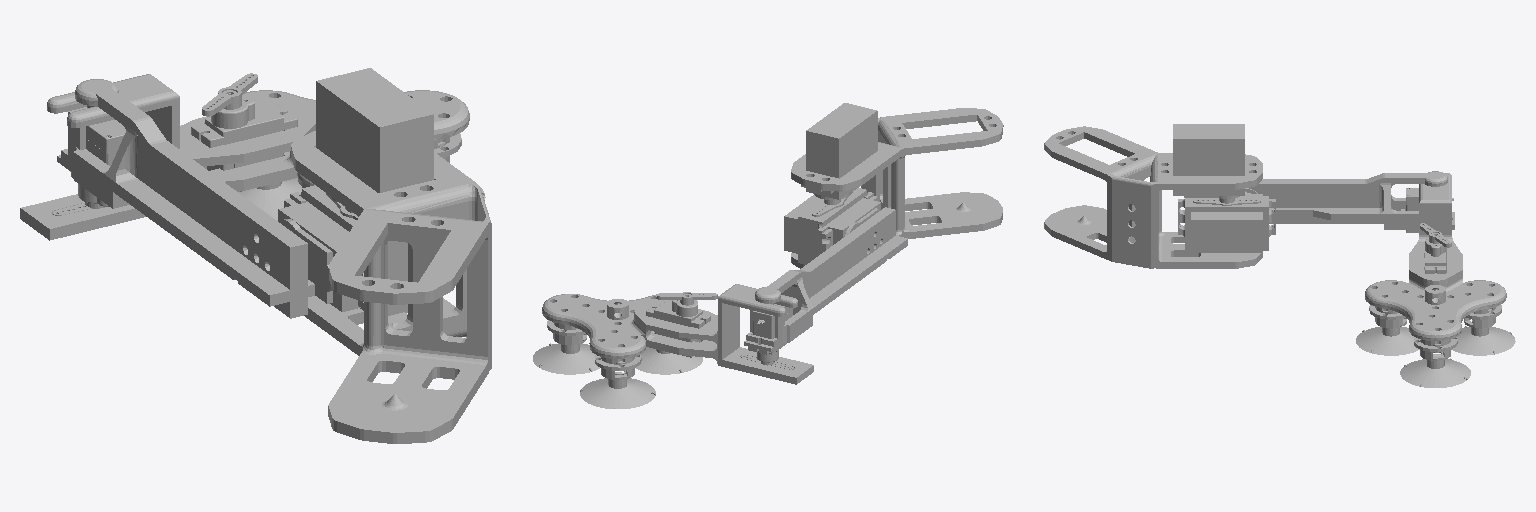
URDF robot description (leg_urdf):
<?xml version="1.0" encoding="utf-8"?>
<!-- This URDF was automatically created by SolidWorks to URDF Exporter! Originally created by [author] ([email redacted]) 
     Commit Version: 1.6.0-4-g7f85cfe  Build Version: 1.6.7995.38578
     For more information, please see http://wiki.ros.org/sw_urdf_exporter -->
<robot
  name="leg_urdf">
  <link
    name="base_link">
    <inertial>
      <origin
        xyz="-0.0054523 -0.031797 0.035247"
        rpy="0 0 0" />
      <mass
        value="0.087475" />
      <inertia
        ixx="8.6451E-05"
        ixy="-1.5882E-05"
        ixz="-1.2368E-06"
        iyy="5.1374E-05"
        iyz="5.876E-07"
        izz="7.5897E-05" />
    </inertial>
    <visual>
      <origin
        xyz="0 0 0"
        rpy="0 0 0" />
      <geometry>
        <mesh
          filename="package://leg_urdf/meshes/base_link.STL" />
      </geometry>
      <material
        name="">
        <color
          rgba="0.75294 0.75294 0.75294 1" />
      </material>
    </visual>
    <collision>
      <origin
        xyz="0 0 0"
        rpy="0 0 0" />
      <geometry>
        <mesh
          filename="package://leg_urdf/meshes/base_link.STL" />
      </geometry>
    </collision>
  </link>
  <link
    name="shoulder_link">
    <inertial>
      <origin
        xyz="-0.0012364 0.00012327 0.013522"
        rpy="0 0 0" />
      <mass
        value="0.040095" />
      <inertia
        ixx="9.0548E-06"
        ixy="7.5538E-08"
        ixz="6.0887E-09"
        iyy="5.6354E-06"
        iyz="-7.5826E-12"
        izz="1.0932E-05" />
    </inertial>
    <visual>
      <origin
        xyz="0 0 0"
        rpy="0 0 0" />
      <geometry>
        <mesh
          filename="package://leg_urdf/meshes/shoulder_link.STL" />
      </geometry>
      <material
        name="">
        <color
          rgba="0.75294 0.75294 0.75294 1" />
      </material>
    </visual>
    <collision>
      <origin
        xyz="0 0 0"
        rpy="0 0 0" />
      <geometry>
        <mesh
          filename="package://leg_urdf/meshes/shoulder_link.STL" />
      </geometry>
    </collision>
  </link>
  <joint
    name="front_back_joint"
    type="continuous">
    <origin
      xyz="0 0 0.0052"
      rpy="0 0 0" />
    <parent
      link="base_link" />
    <child
      link="shoulder_link" />
    <axis
      xyz="0 0 1" />
  </joint>
  <link
    name="tibia_link">
    <inertial>
      <origin
        xyz="-0.029077 0.0516 -0.0015978"
        rpy="0 0 0" />
      <mass
        value="0.043233" />
      <inertia
        ixx="5.4993E-05"
        ixy="-6.3736E-07"
        ixz="-5.8862E-08"
        iyy="3.0015E-06"
        iyz="-2.6775E-07"
        izz="5.3649E-05" />
    </inertial>
    <visual>
      <origin
        xyz="0 0 0"
        rpy="0 0 0" />
      <geometry>
        <mesh
          filename="package://leg_urdf/meshes/tibia_link.STL" />
      </geometry>
      <material
        name="">
        <color
          rgba="0.75294 0.75294 0.75294 1" />
      </material>
    </visual>
    <collision>
      <origin
        xyz="0 0 0"
        rpy="0 0 0" />
      <geometry>
        <mesh
          filename="package://leg_urdf/meshes/tibia_link.STL" />
      </geometry>
    </collision>
  </link>
  <joint
    name="up_down_joint"
    type="continuous">
    <origin
      xyz="0 0.010107 0.0135"
      rpy="0 0 0" />
    <parent
      link="shoulder_link" />
    <child
      link="tibia_link" />
    <axis
      xyz="-1 0 0" />
  </joint>
  <link
    name="gripper_link">
    <inertial>
      <origin
        xyz="0.06516 -1.1556E-05 -0.021052"
        rpy="0 0 0" />
      <mass
        value="0.069921" />
      <inertia
        ixx="1.9179E-05"
        ixy="-6.316E-08"
        ixz="8.6271E-06"
        iyy="8.0406E-05"
        iyz="-4.5135E-09"
        izz="8.8277E-05" />
    </inertial>
    <visual>
      <origin
        xyz="0 0 0"
        rpy="0 0 0" />
      <geometry>
        <mesh
          filename="package://leg_urdf/meshes/gripper_link.STL" />
      </geometry>
      <material
        name="">
        <color
          rgba="0.75294 0.75294 0.75294 1" />
      </material>
    </visual>
    <collision>
      <origin
        xyz="0 0 0"
        rpy="0 0 0" />
      <geometry>
        <mesh
          filename="package://leg_urdf/meshes/gripper_link.STL" />
      </geometry>
    </collision>
  </link>
  <joint
    name="gripper_joint"
    type="continuous">
    <origin
      xyz="-0.028721 0.10739 0"
      rpy="0 0 0" />
    <parent
      link="tibia_link" />
    <child
      link="gripper_link" />
    <axis
      xyz="0 0 1" />
  </joint>
</robot>

--- Facts derived from the render (not from the file) ---
Views: 3 orthographic renders of the robot side by side, from view 1: azimuth 30°, elevation 25°; view 2: azimuth 150°, elevation 25°; view 3: azimuth 270°, elevation 25°.
Robot: leg_urdf — 4 links, 3 joints (3 continuous); root link base_link; default pose: all joints at 0.
Links seen in each view (by area): view 1: base_link, tibia_link, gripper_link, shoulder_link; view 2: gripper_link, base_link, tibia_link, shoulder_link; view 3: base_link, gripper_link, tibia_link, shoulder_link.
Link boxes in pixels (x1,y1,x2,y2): base_link: (291, 68, 491, 443); tibia_link: (57, 79, 314, 318); gripper_link: (20, 73, 485, 240); shoulder_link: (278, 185, 407, 315); gripper_link: (533, 284, 813, 408); base_link: (791, 103, 1003, 268); tibia_link: (744, 207, 907, 362); shoulder_link: (784, 188, 880, 264); base_link: (1044, 124, 1262, 268); gripper_link: (1356, 173, 1515, 387); tibia_link: (1245, 171, 1454, 232); shoulder_link: (1178, 192, 1275, 252).
Bounding box of the posed robot: 0.1669 × 0.2652 × 0.1079 m (x, y, z).
4 mesh visuals loaded from 4 distinct referenced files (4 binary STL).